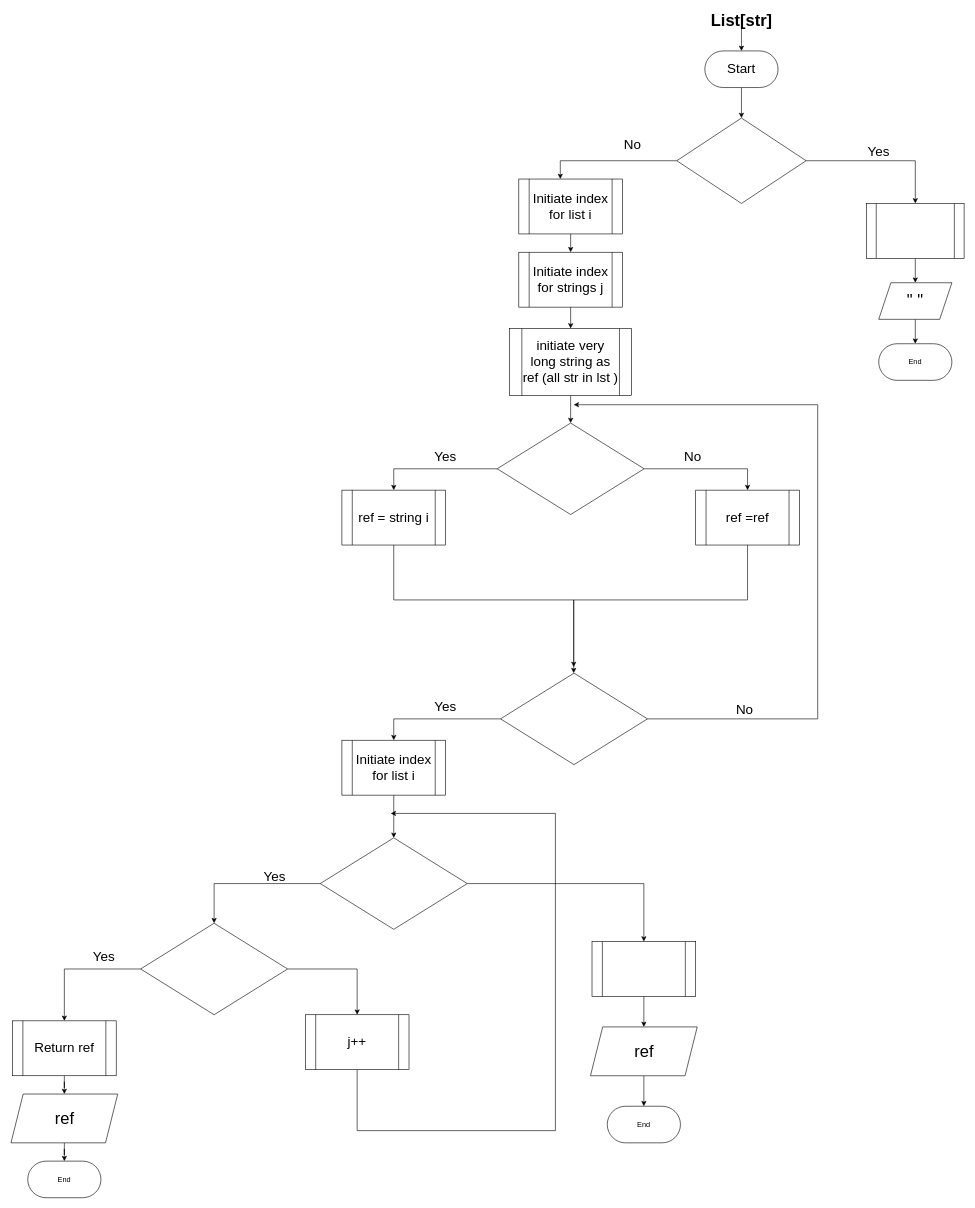
This 975x1208 diagram has some shape labels left out. Here are the shapes that lost their labels. From the top down, the centre of each, then its label:
point 741,160: Is the list empty?
point 915,230: Return empty String
point 570,468: Is len(string i) < ref
point 574,719: Is i => len Lst
point 393,883: ref[j]==str[i][j]
point 214,969: Is j=>len ref
point 643,968: Return ref [;j]
